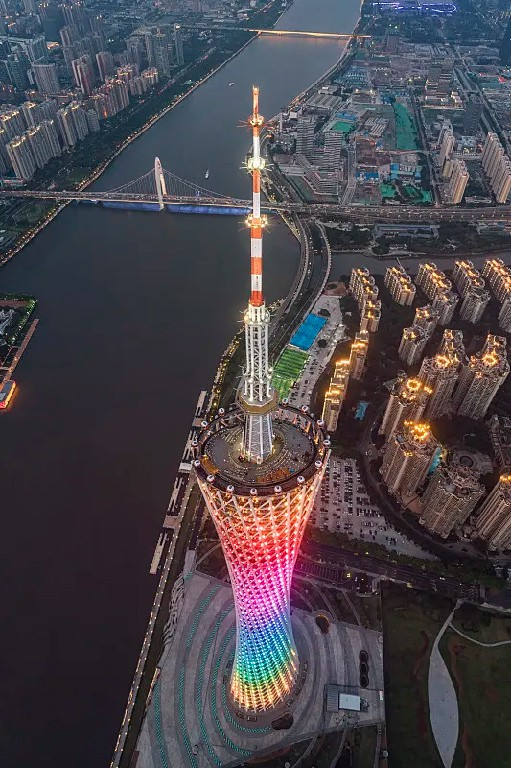Canton: (187, 81, 341, 729)
